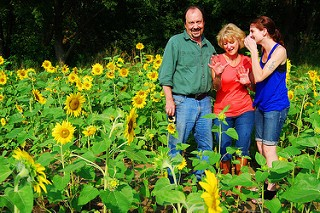flower: (62, 91, 87, 118), (51, 121, 77, 145)
